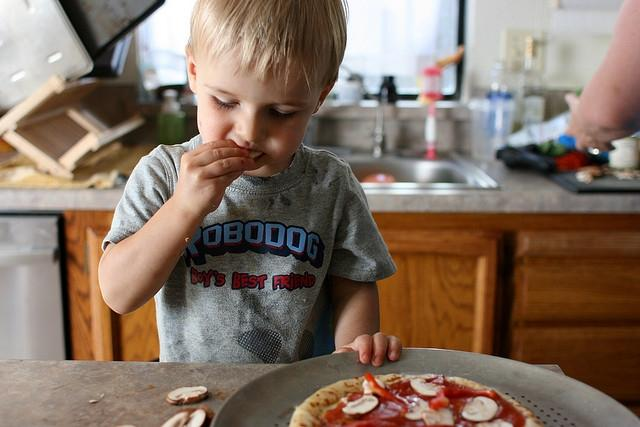mushroom: (341, 395, 380, 419), (462, 396, 498, 422), (166, 385, 208, 405), (160, 408, 206, 426), (419, 406, 454, 425), (410, 378, 446, 396), (405, 400, 430, 420), (362, 378, 384, 395), (248, 152, 263, 158)
